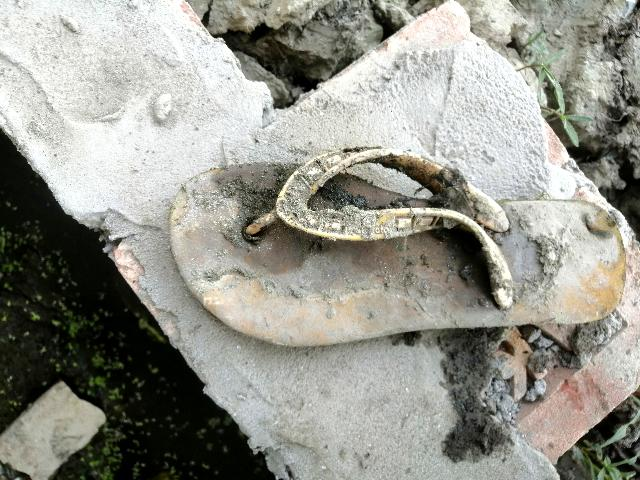sandal: (150, 155, 628, 353)
